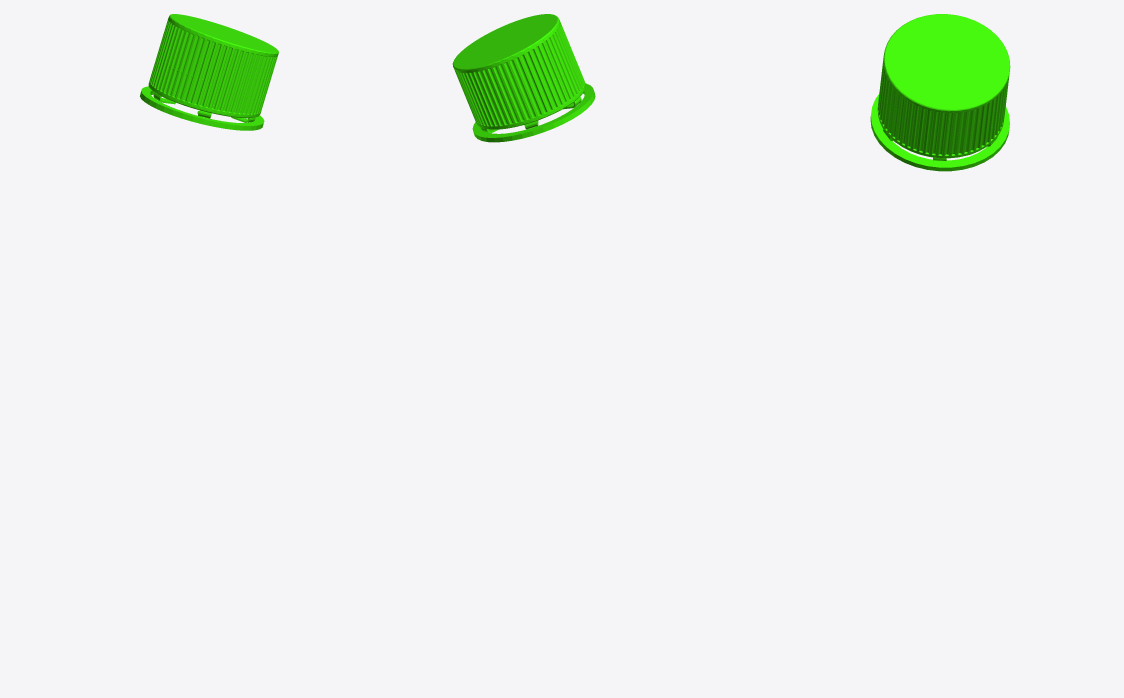
The model's file is bend_medium_1.obj.
The picture shows the model from 3 angles, left to right: view 1: azimuth 30°, elevation 25°; view 2: azimuth 150°, elevation 25°; view 3: azimuth 270°, elevation 25°; orthographic projection. The views are drawn at different scales.
Parts seen in each view (by area): view 1: model; view 2: model; view 3: model.
Boxes of the visible parts, x1,y1,x2,y2 form: model: [140, 14, 278, 130]; model: [452, 14, 595, 142]; model: [870, 14, 1010, 171].
Size of the model in its own units: 0.1361 by 0.2714 by 0.1255.
Materials: 1 (1 with a texture image).
